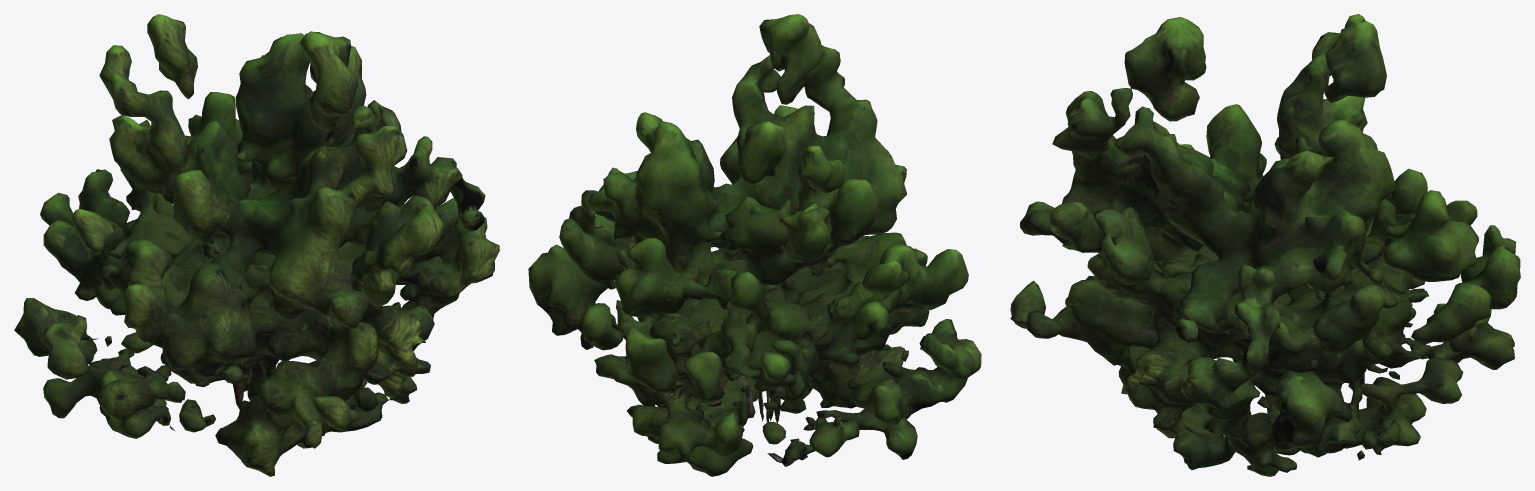
Rendered from AI_ConiferousShrub.fbx.
3 renders of one model, left to right at view 1: azimuth 30°, elevation 25°; view 2: azimuth 150°, elevation 25°; view 3: azimuth 270°, elevation 25°, orthographic. The views are drawn at different scales.
Visible parts, largest first — view 1: Mesh1.0; view 2: Mesh1.0; view 3: Mesh1.0.
Boxes of the visible parts, box(x1,y1,x2,y2) form: Mesh1.0: box(14, 14, 499, 476); Mesh1.0: box(528, 14, 981, 476); Mesh1.0: box(1010, 14, 1520, 476).
Bounding box in the file's own units: 188 × 169 × 182.
1 material, 1 textured.
